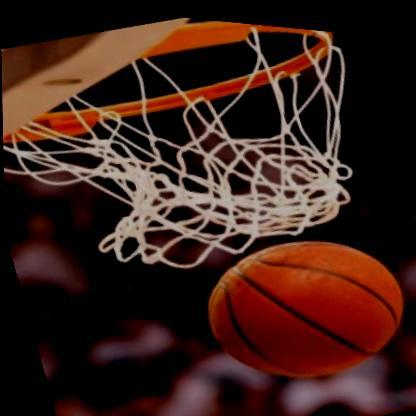basketball: (186, 198, 416, 403)
rim: (9, 1, 381, 294)
